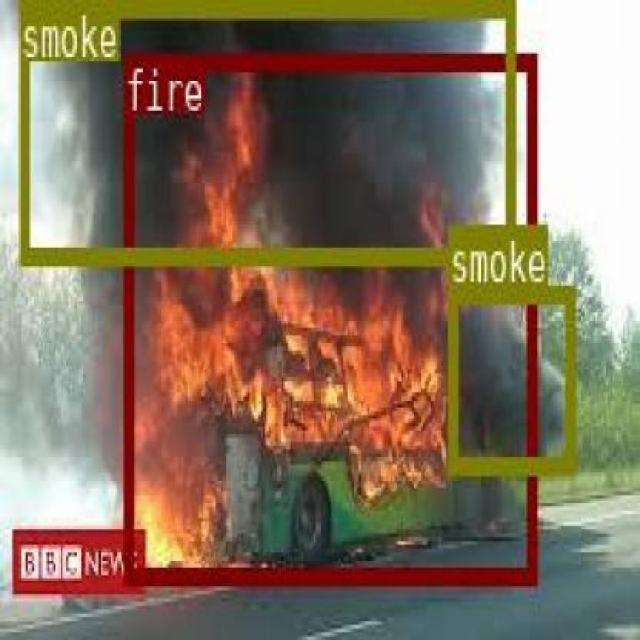CIV_Plane: (122, 51, 535, 582)
Fire: (122, 51, 535, 582)
Smoke: (17, 0, 514, 194), (446, 315, 572, 437)
